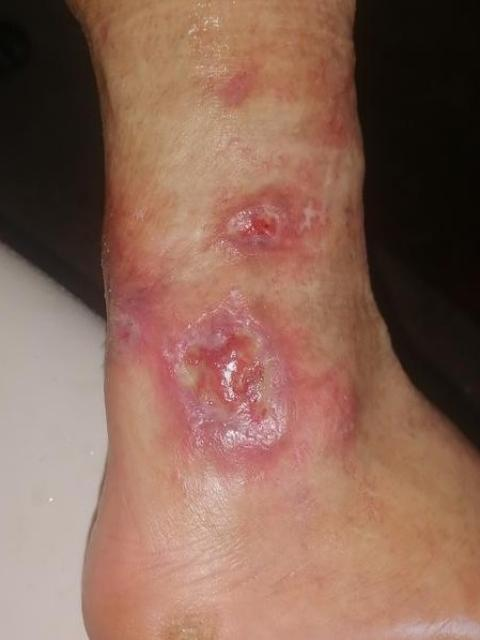wound: (160, 290, 288, 450), (224, 199, 317, 249), (103, 246, 145, 344)
